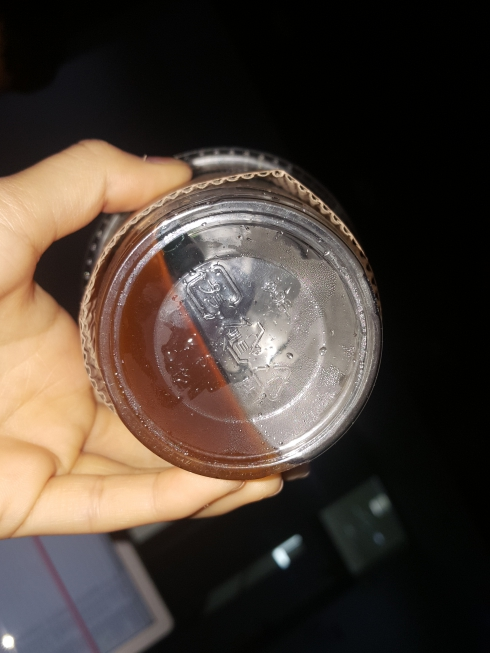recycle: (240, 360, 294, 411)
